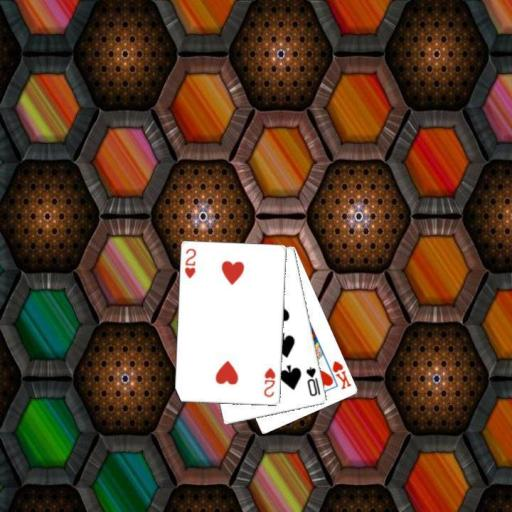card-corner: (329, 358, 353, 391), (303, 364, 322, 398), (261, 365, 277, 399), (182, 246, 198, 280)
